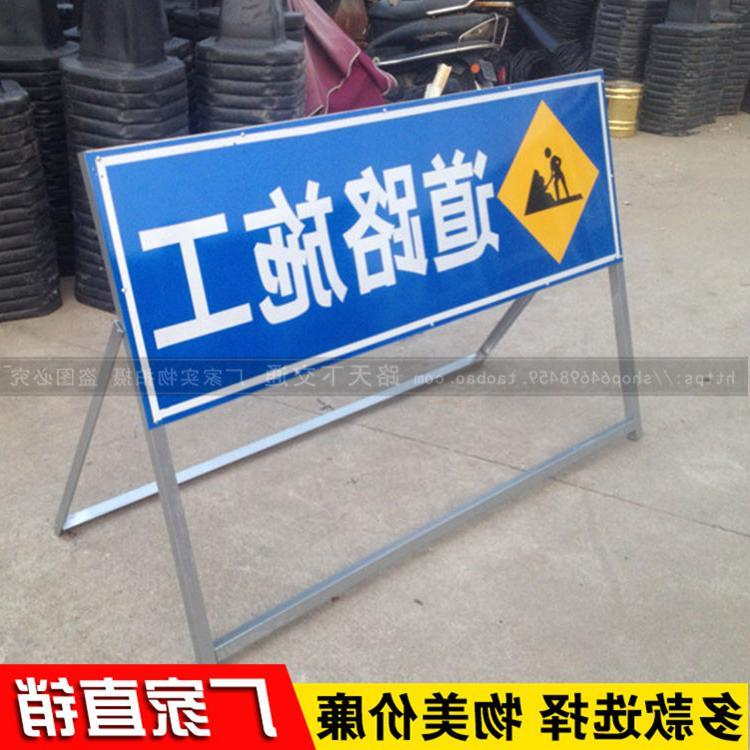sign: (86, 68, 626, 422)
